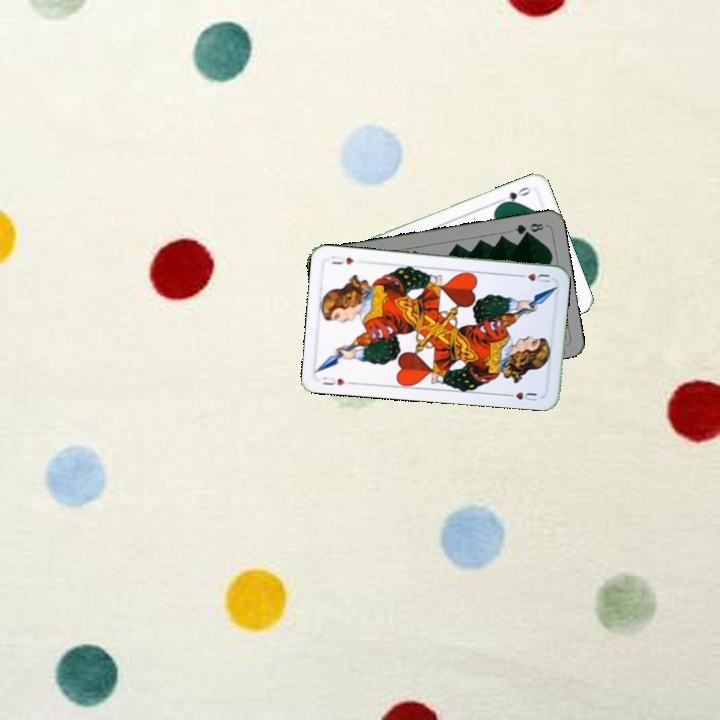G8: (511, 219, 548, 237)
GO: (496, 183, 535, 207)
HU: (513, 269, 552, 285), (319, 373, 347, 388)
